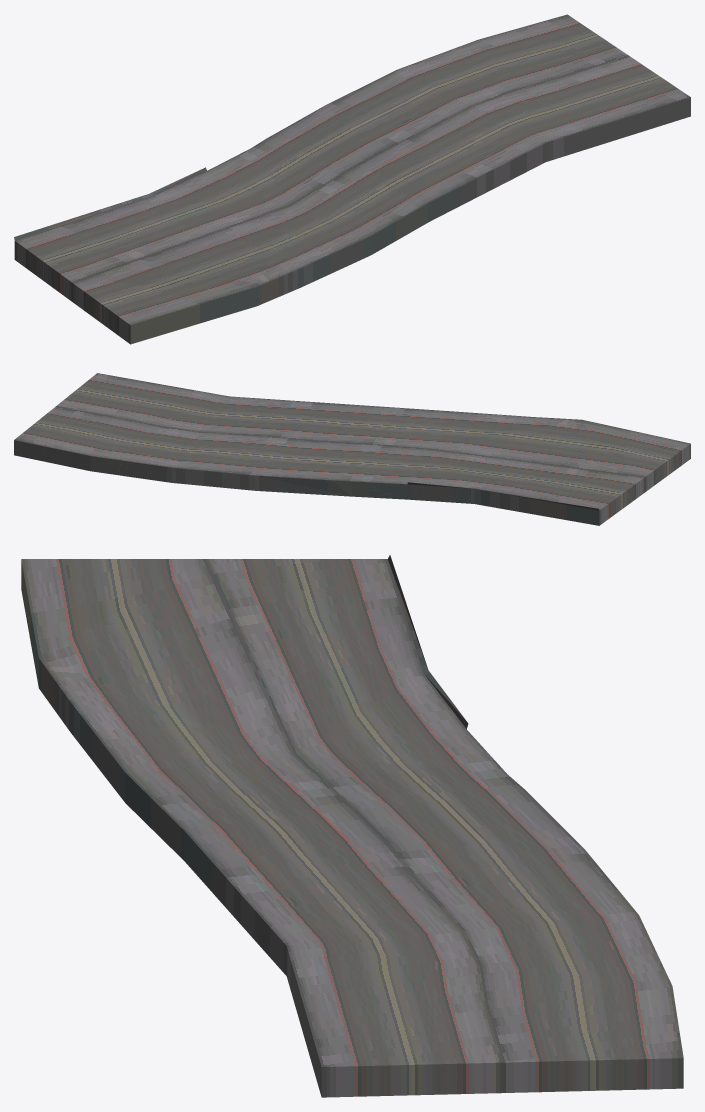
The model's file is lodroads_sfw18.obj.
3 views of the same model, one above another, from view 1: azimuth 30°, elevation 25°; view 2: azimuth 150°, elevation 25°; view 3: azimuth 270°, elevation 25° (orthographic). The views are drawn at different scales.
Visible parts, largest first — view 1: LODroads_sfw18; view 2: LODroads_sfw18; view 3: LODroads_sfw18.
Boxes of the visible parts, bbox=[...] form: LODroads_sfw18: bbox=[14, 14, 690, 344]; LODroads_sfw18: bbox=[14, 373, 690, 525]; LODroads_sfw18: bbox=[21, 555, 683, 1097].
Size of the model in its own units: 156 by 5.56 by 86.32.
1 material, 1 textured.
